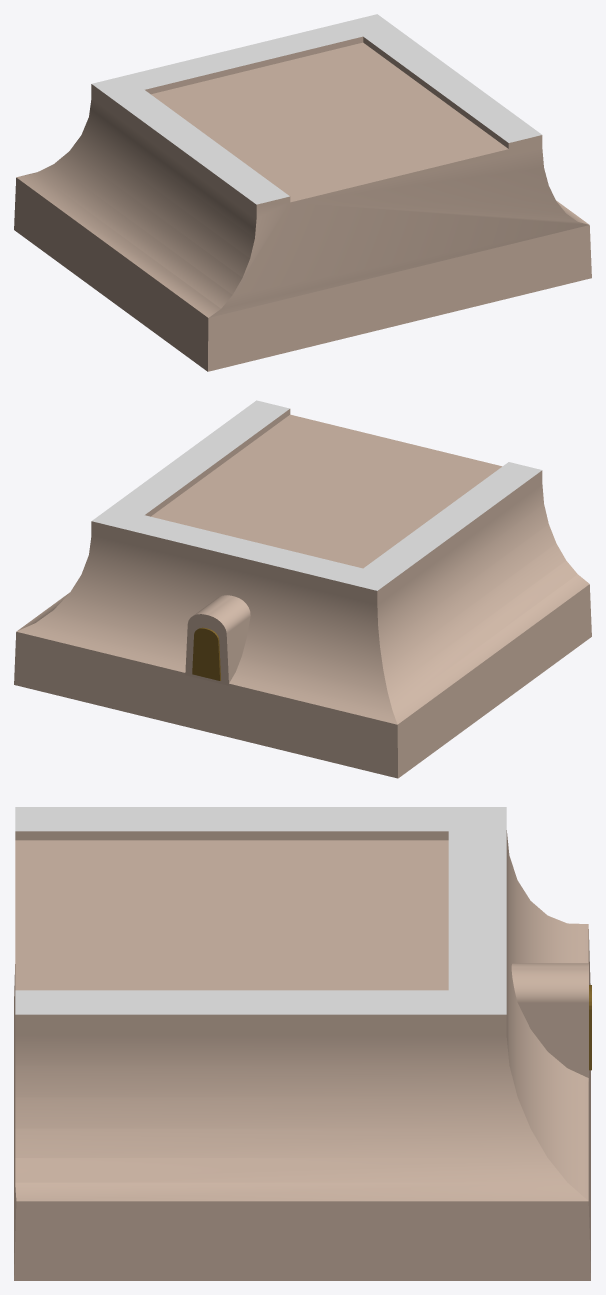
Rendered from DustCityHouse_U.fbx.
The picture shows the model from 3 angles, top to bottom: view 1: azimuth 30°, elevation 25°; view 2: azimuth 150°, elevation 25°; view 3: azimuth 270°, elevation 25°; orthographic projection. The views are drawn at different scales.
Parts seen in each view (by area): view 1: DCHouse_U; view 2: DCHouse_U, HouseDoor; view 3: DCHouse_U, HouseDoor.
Part boxes in pixels (box(x1,y1,x2,y2)): DCHouse_U: box(14, 14, 591, 371); DCHouse_U: box(14, 400, 591, 778); HouseDoor: box(185, 595, 250, 685); DCHouse_U: box(14, 807, 590, 1280); HouseDoor: box(511, 963, 591, 1081).
Size of the model in its own units: 202 by 77.66 by 176.
